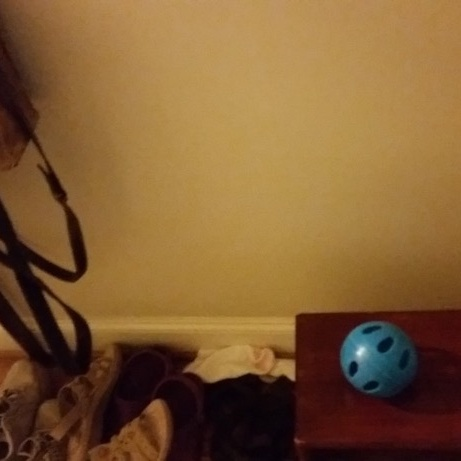ball: (336, 317, 423, 402)
